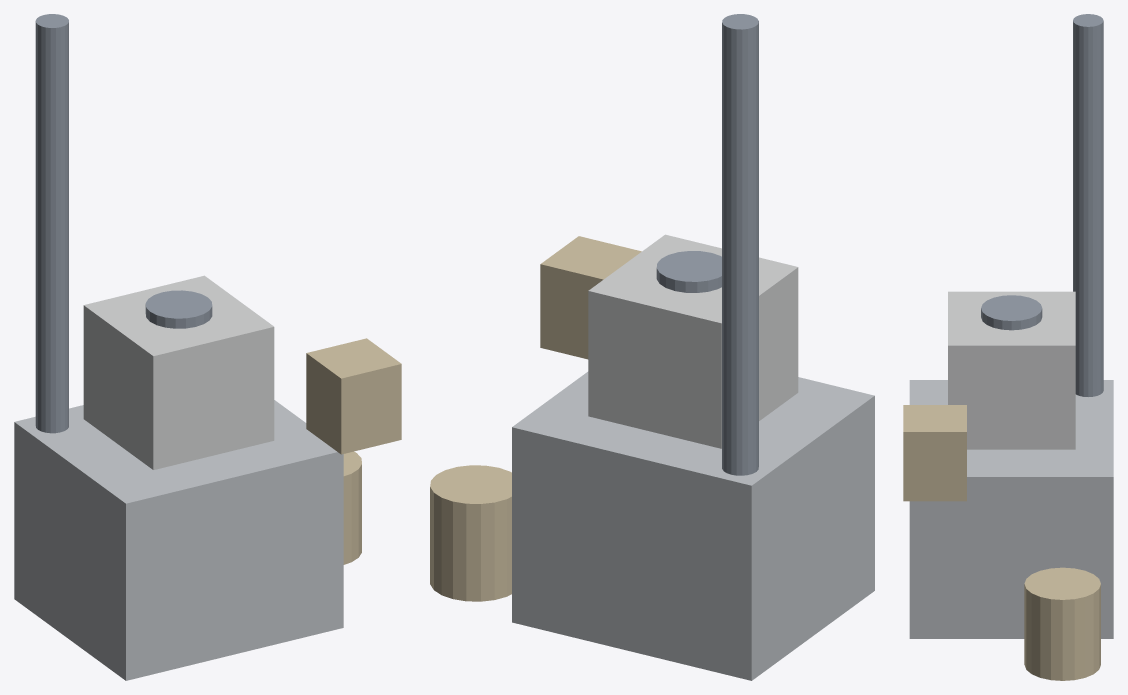
3 views of the same model, side by side, from view 1: azimuth 30°, elevation 25°; view 2: azimuth 150°, elevation 25°; view 3: azimuth 270°, elevation 25° (orthographic). The views are drawn at different scales.
Parts seen in each view (by area): view 1: part_camara, part_taza, part_ducto, part_material_secante, part_contenedor_orina; view 2: part_camara, part_taza, part_ducto, part_contenedor_orina, part_material_secante; view 3: part_camara, part_taza, part_ducto, part_contenedor_orina, part_material_secante.
Boxes of the visible parts, x1,y1,x2,y2 form: part_camara: (14, 400, 343, 680); part_taza: (83, 275, 274, 469); part_ducto: (35, 14, 68, 433); part_material_secante: (306, 338, 401, 454); part_contenedor_orina: (343, 451, 361, 564); part_camara: (512, 371, 874, 680); part_taza: (588, 234, 798, 448); part_ducto: (722, 14, 758, 475); part_contenedor_orina: (430, 465, 511, 601); part_material_secante: (540, 236, 641, 359); part_camara: (909, 380, 1113, 638); part_taza: (948, 291, 1075, 449); part_ducto: (1073, 14, 1103, 396); part_contenedor_orina: (1024, 567, 1100, 680); part_material_secante: (903, 405, 966, 501).
Size of the model in its own units: 1.3 by 2.3 by 0.825.
